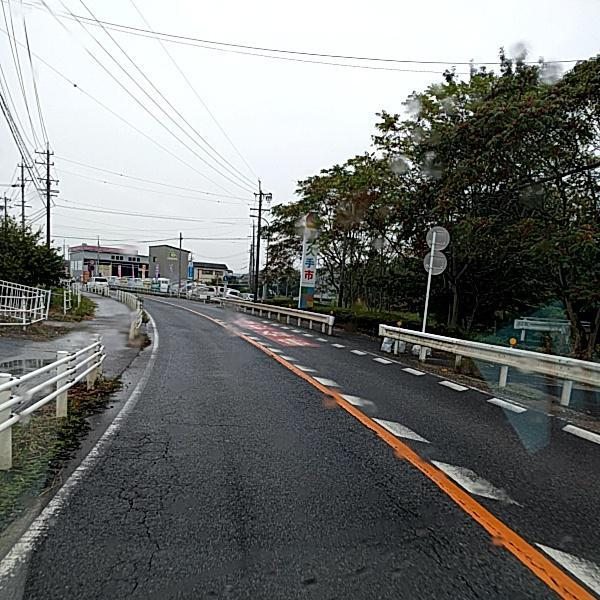D20: (93, 414, 206, 599)
D44: (0, 340, 161, 590)
